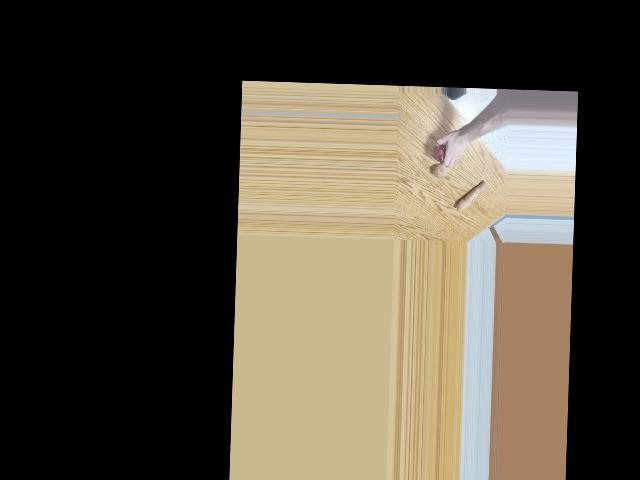onion: (430, 161, 447, 177)
